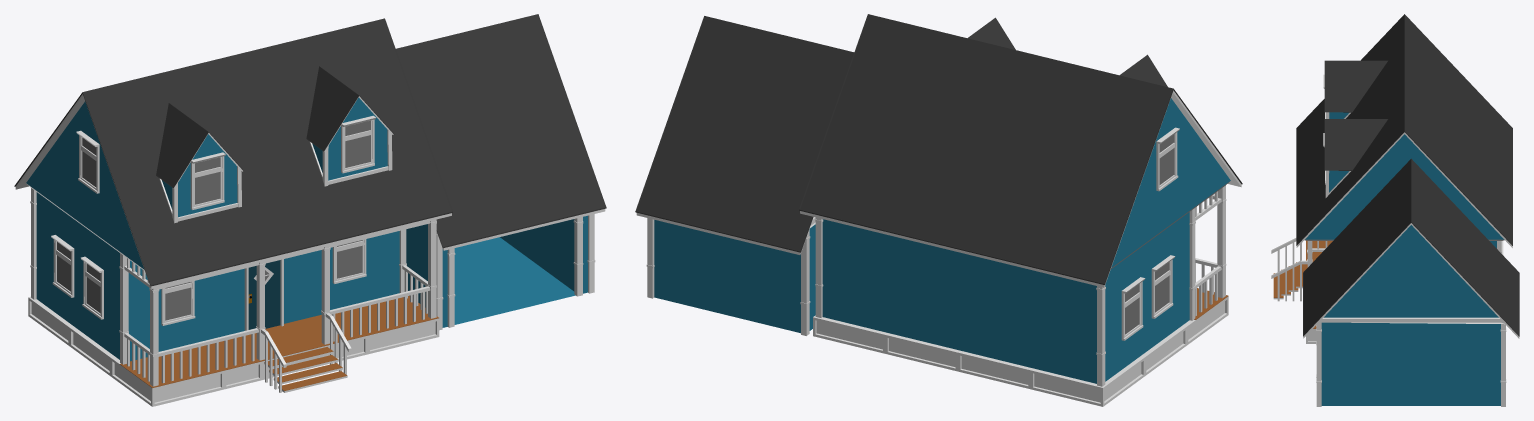
The model's file is CasaAvô.fbx.
The picture shows the model from 3 angles, left to right: view 1: azimuth 30°, elevation 25°; view 2: azimuth 150°, elevation 25°; view 3: azimuth 270°, elevation 25°; orthographic projection. The views are drawn at different scales.
Parts seen in each view (by area): view 1: Casa, Telhado Garagem, Pilares, Garagem, Janelas, Pilares Garagem, Porta; view 2: Casa, Telhado Garagem, Garagem, Pilares, Janelas, Pilares Garagem; view 3: Casa, Garagem, Telhado Garagem, Pilares Garagem, Pilares.
Boxes of the visible parts, bbox=[...] form: Casa: bbox=[14, 18, 452, 406]; Telhado Garagem: bbox=[396, 14, 606, 250]; Pilares: bbox=[26, 129, 436, 392]; Garagem: bbox=[406, 215, 587, 327]; Janelas: bbox=[51, 115, 375, 325]; Pilares Garagem: bbox=[436, 214, 595, 330]; Porta: bbox=[244, 259, 283, 330]; Casa: bbox=[799, 14, 1242, 406]; Telhado Garagem: bbox=[635, 16, 854, 254]; Garagem: bbox=[654, 220, 815, 333]; Pilares: bbox=[815, 181, 1229, 386]; Janelas: bbox=[1121, 127, 1179, 340]; Pilares Garagem: bbox=[646, 217, 815, 335]; Casa: bbox=[1273, 14, 1512, 343]; Garagem: bbox=[1321, 225, 1500, 405]; Telhado Garagem: bbox=[1303, 158, 1519, 338]; Pilares Garagem: bbox=[1316, 317, 1506, 406]; Pilares: bbox=[1271, 112, 1504, 301].
Size of the model in its own units: 2566 by 1445 by 1509.
